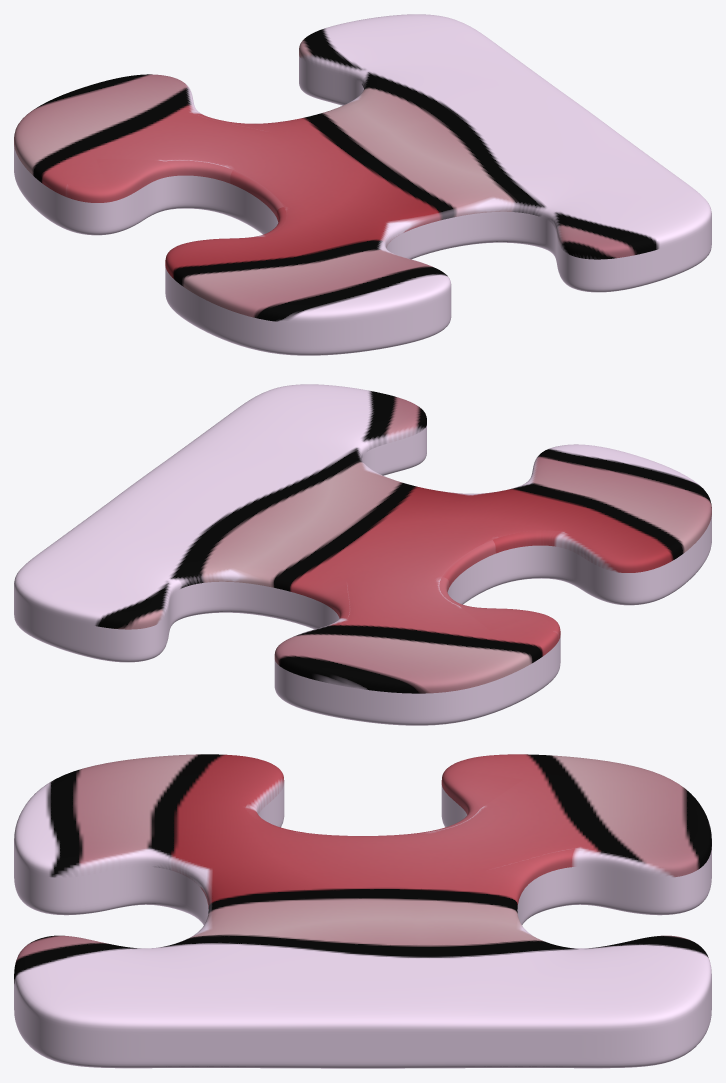
Rendered from Pieza 5.fbx.
3 renders of one model, top to bottom at view 1: azimuth 30°, elevation 25°; view 2: azimuth 150°, elevation 25°; view 3: azimuth 270°, elevation 25°, orthographic. The views are drawn at different scales.
Visible parts, largest first — view 1: Plane.012; view 2: Plane.012; view 3: Plane.012.
Part boxes in pixels (x1,y1,x2,y2): Plane.012: [14, 14, 711, 355]; Plane.012: [14, 384, 711, 725]; Plane.012: [14, 754, 711, 1068].
Size of the model in its own units: 50.89 by 5 by 55.86.
